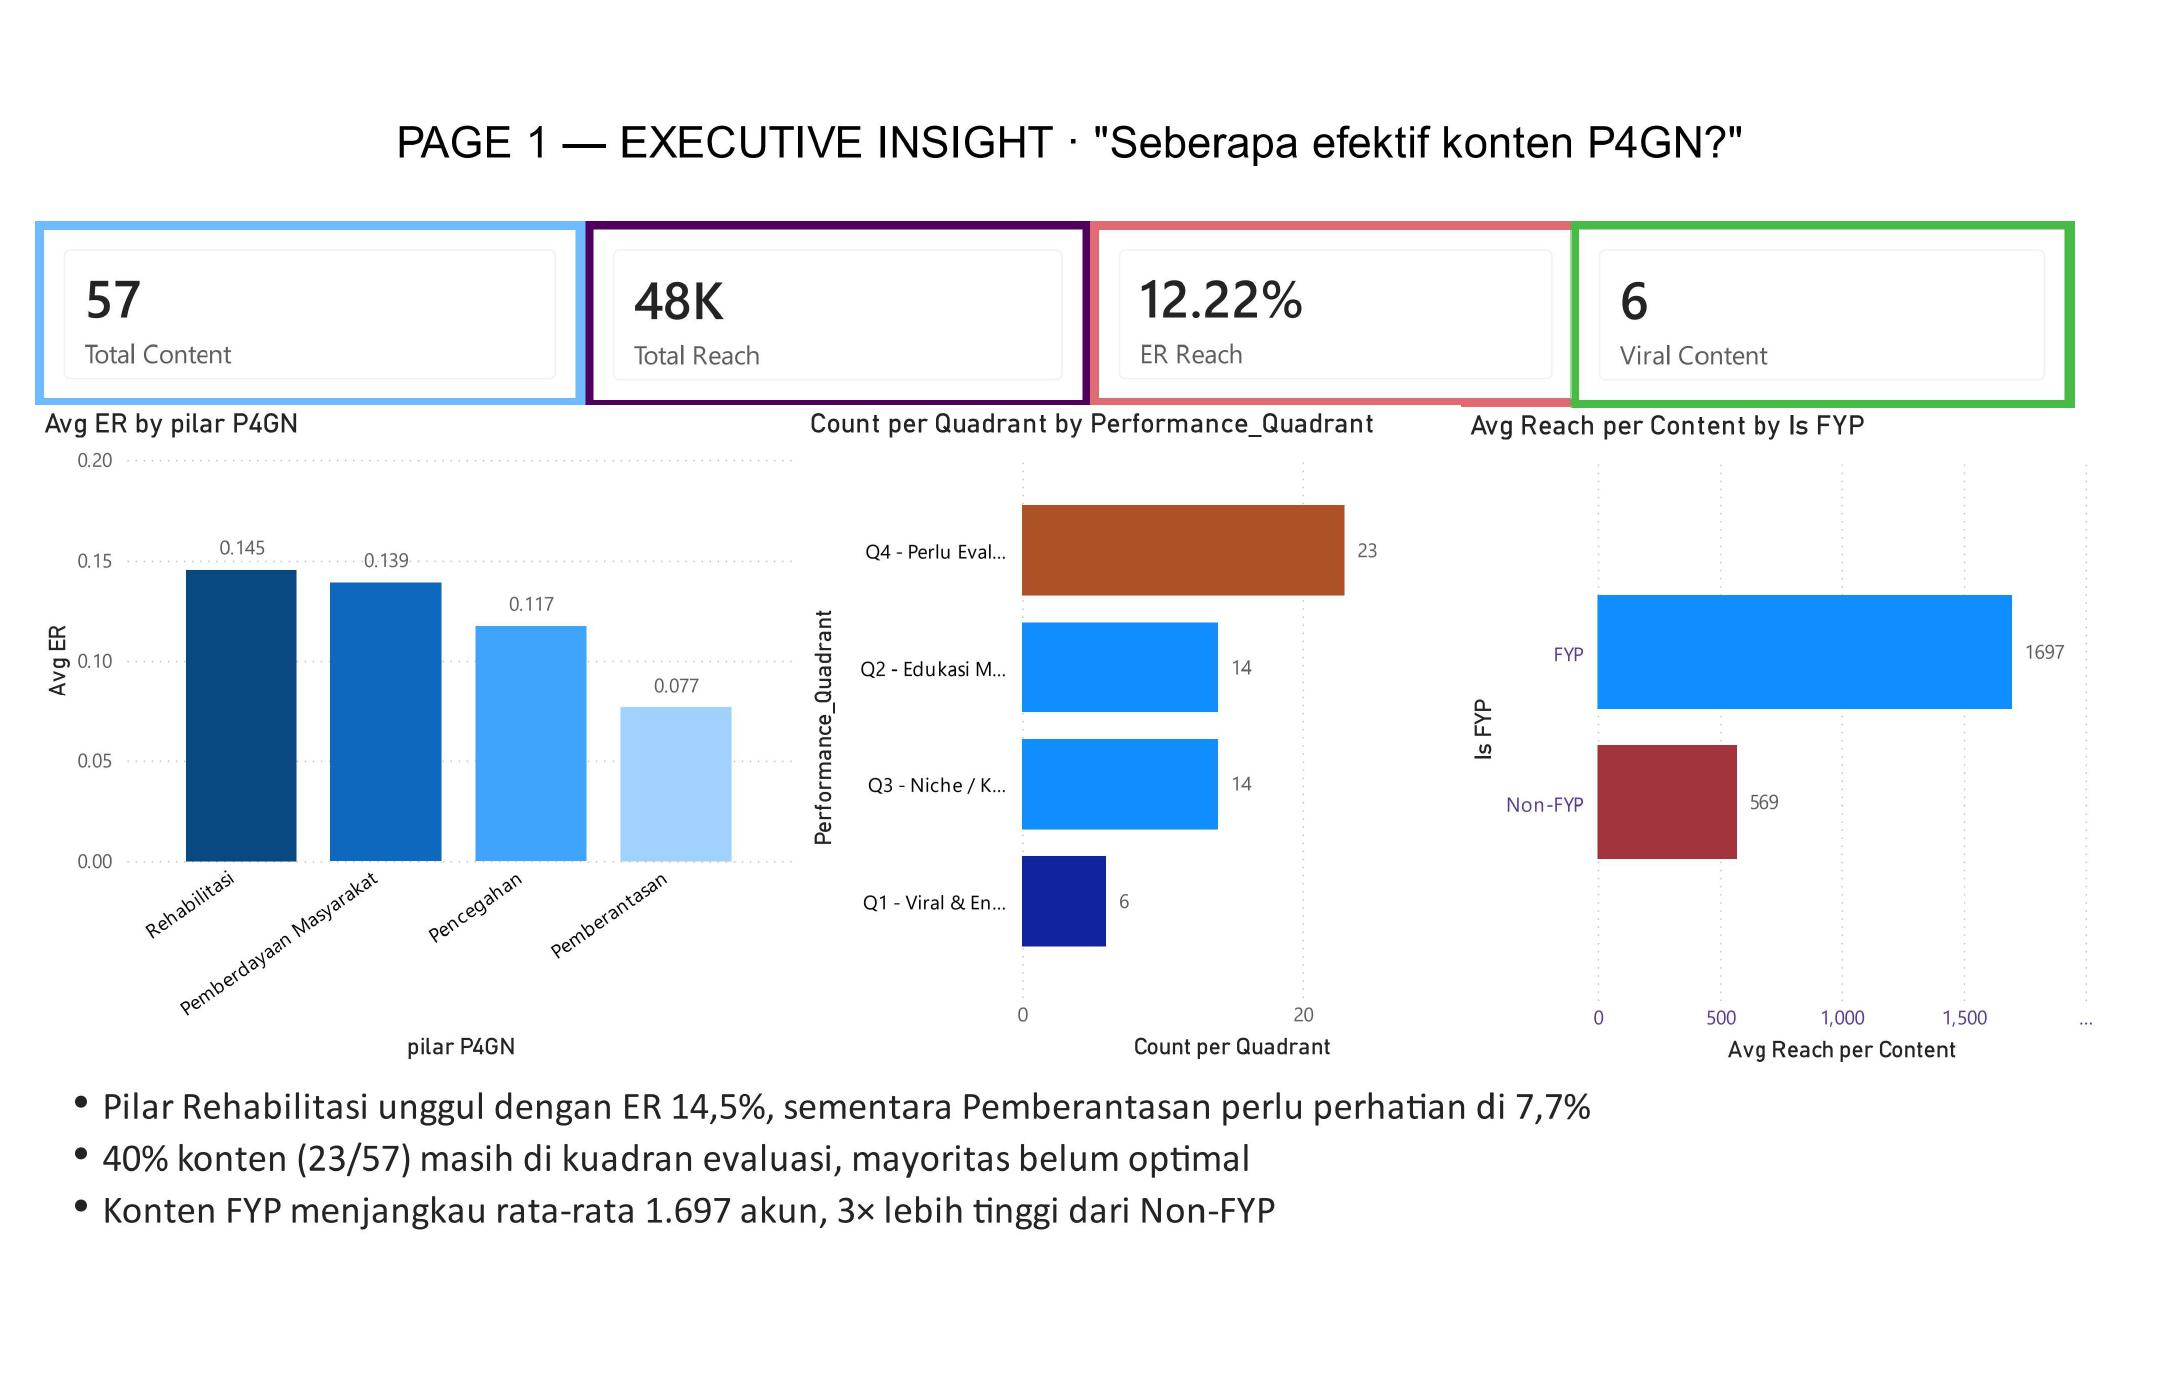

Layout of this report page (visuals, bound fields, positions):
{"tool":"powerbi","page":{"name":"Page 1","canvas":[1280,720],"ordinal":0},"visuals":[{"type":"cardVisual","fields":{"Data":["dim_content.Total Content"]},"box":[0,70.1,339.8,114.3],"z":0},{"type":"cardVisual","fields":{"Data":["fact_performance.Total Reach"]},"box":[339.8,70.1,312.4,115.8],"z":1000},{"type":"cardVisual","fields":{"Data":["dim_content.ER Reach"]},"box":[652.2,70.1,303.2,114.3],"z":2000},{"type":"cardVisual","fields":{"Data":["dim_content.Viral Content"]},"box":[949.3,70.1,310.9,115.8],"z":3000},{"type":"columnChart","fields":{"Category":["dim_content.pilar P4GN"],"Y":["fact_analysis.Avg ER"]},"box":[0,185.1,473.9,408.4],"z":4000},{"type":"clusteredBarChart","fields":{"Y":["fact_performance.Avg Reach per Content"],"Category":["fact_performance.Is FYP"]},"box":[882.3,185.9,397.7,408.4],"z":5000},{"type":"clusteredBarChart","fields":{"Category":["fact_analysis.Performance_Quadrant"],"Y":["fact_analysis.Count per Quadrant"]},"box":[473.9,185.1,406.9,408.4],"z":6000},{"type":"textbox","box":[0,593.5,1260.2,126.5],"z":7000},{"type":"textbox","box":[0,0,1278.5,70.1],"z":8000}]}

Visuals, with their boxes on the page's 1280x720 design canvas (x1, y1, x2, y2). These are canvas units, not pixel positions in the 2161x1388 screenshot, which may show the page scaled, cropped or inside an application window:
cardVisual - dim_content.Total Content: Rect(0, 70, 340, 184)
cardVisual - fact_performance.Total Reach: Rect(340, 70, 652, 186)
cardVisual - dim_content.ER Reach: Rect(652, 70, 955, 184)
cardVisual - dim_content.Viral Content: Rect(949, 70, 1260, 186)
columnChart - dim_content.pilar P4GN x fact_analysis.Avg ER: Rect(0, 185, 474, 594)
clusteredBarChart - fact_performance.Avg Reach per Content x fact_performance.Is FYP: Rect(882, 186, 1280, 594)
clusteredBarChart - fact_analysis.Performance_Quadrant x fact_analysis.Count per Quadrant: Rect(474, 185, 881, 594)
textbox: Rect(0, 594, 1260, 720)
textbox: Rect(0, 0, 1278, 70)
